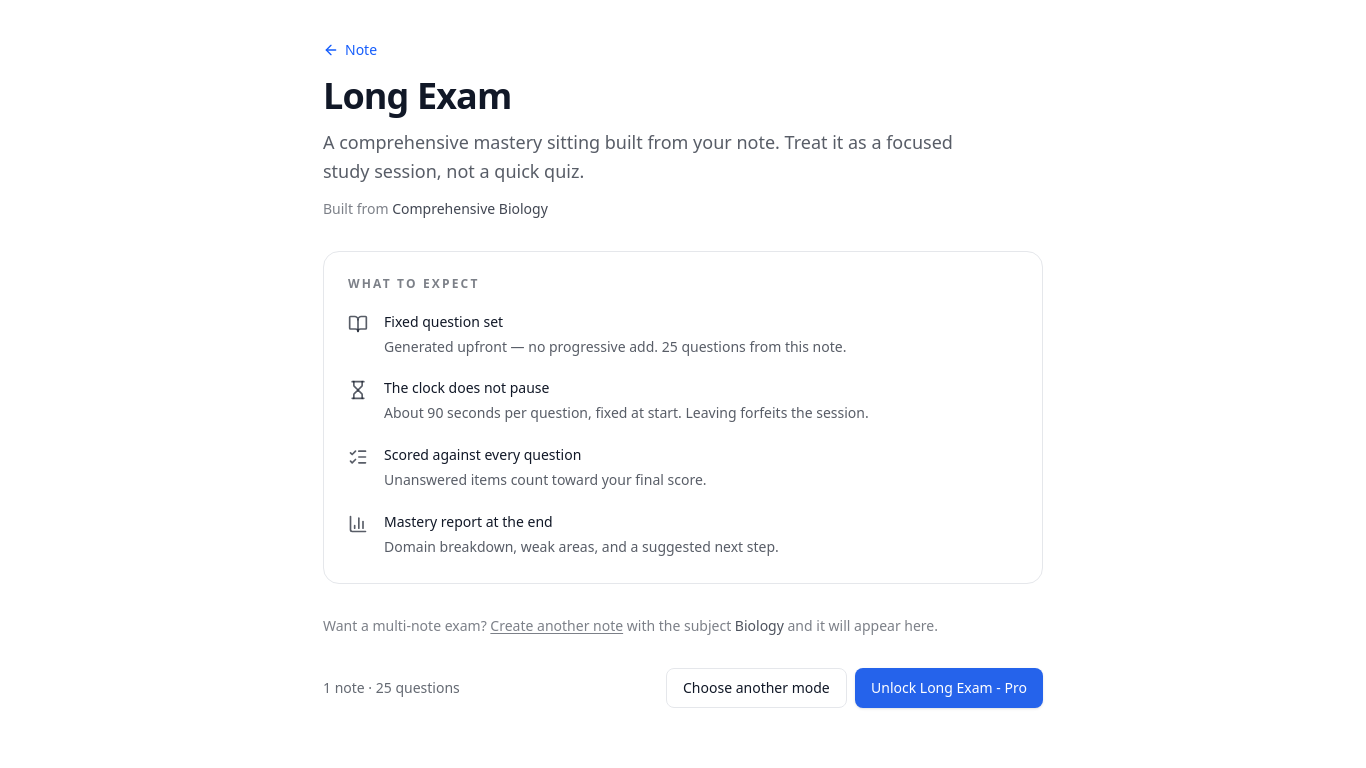
LongExamPage › shows Long Exam setup to free users and opens the paywall from the Start CTA
Expected: the heading "Long Exam" is shown, [323,71,511,120]
Expected: the heading "What to expect" is shown, [348,274,480,292]
Click the button "Unlock Long Exam - Pro".
click(949, 688)  # box [855,668,1043,708]
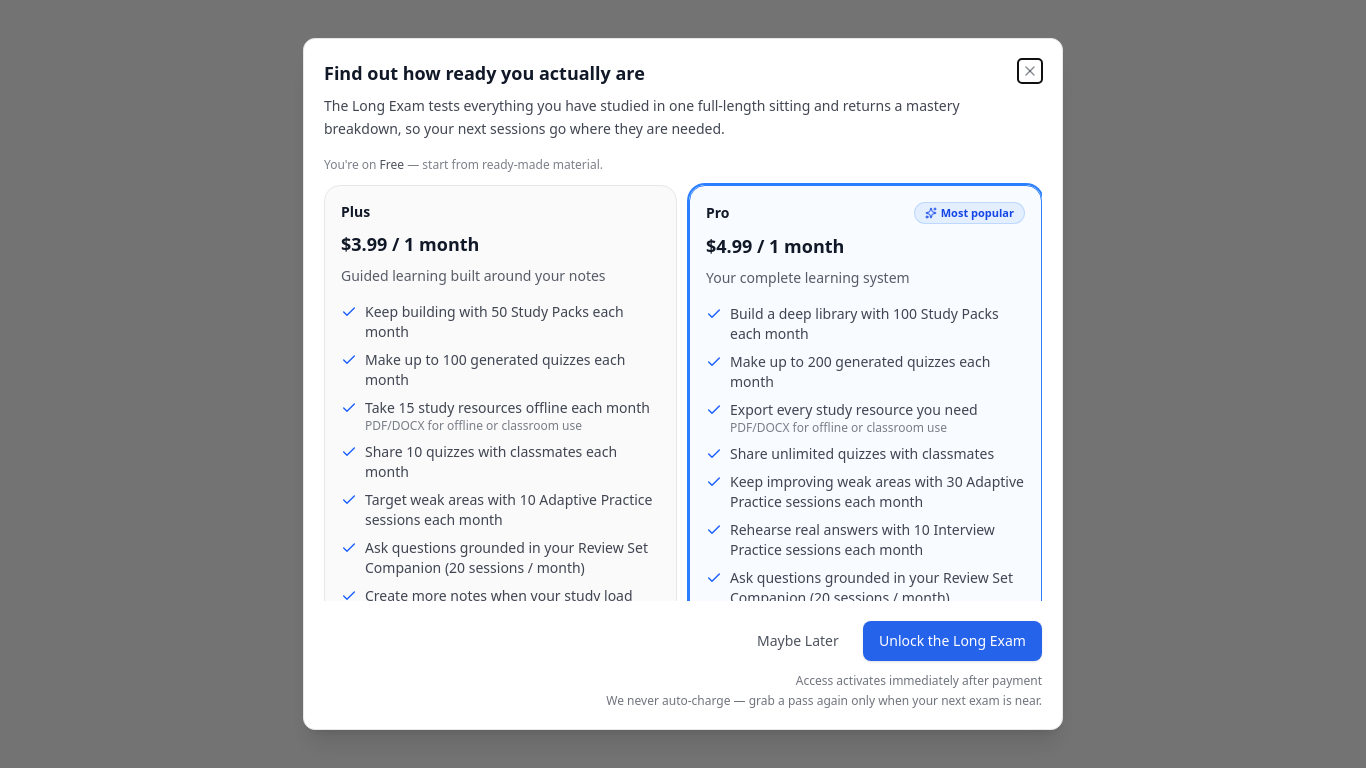
Result: the dialog "Find out how ready you actually are" is shown at [303,38,1063,730]
